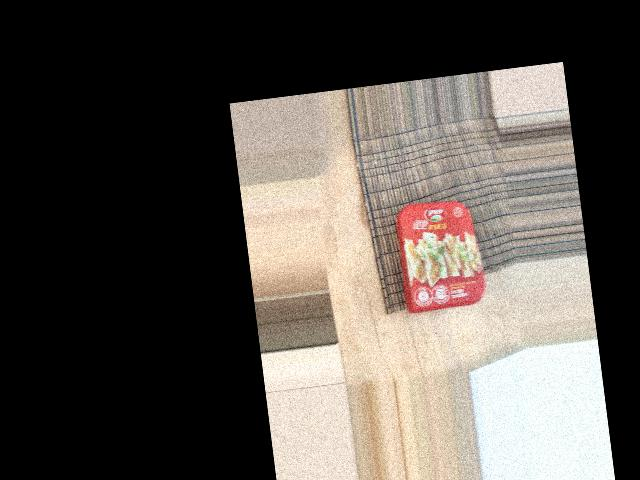cheese: (406, 188, 493, 314)
